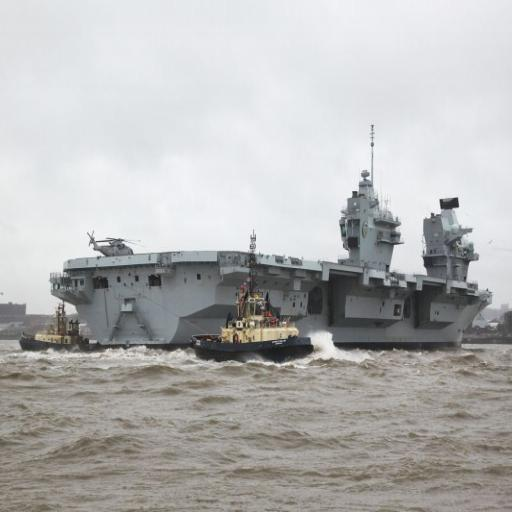Portanaves: (47, 162, 501, 358)
